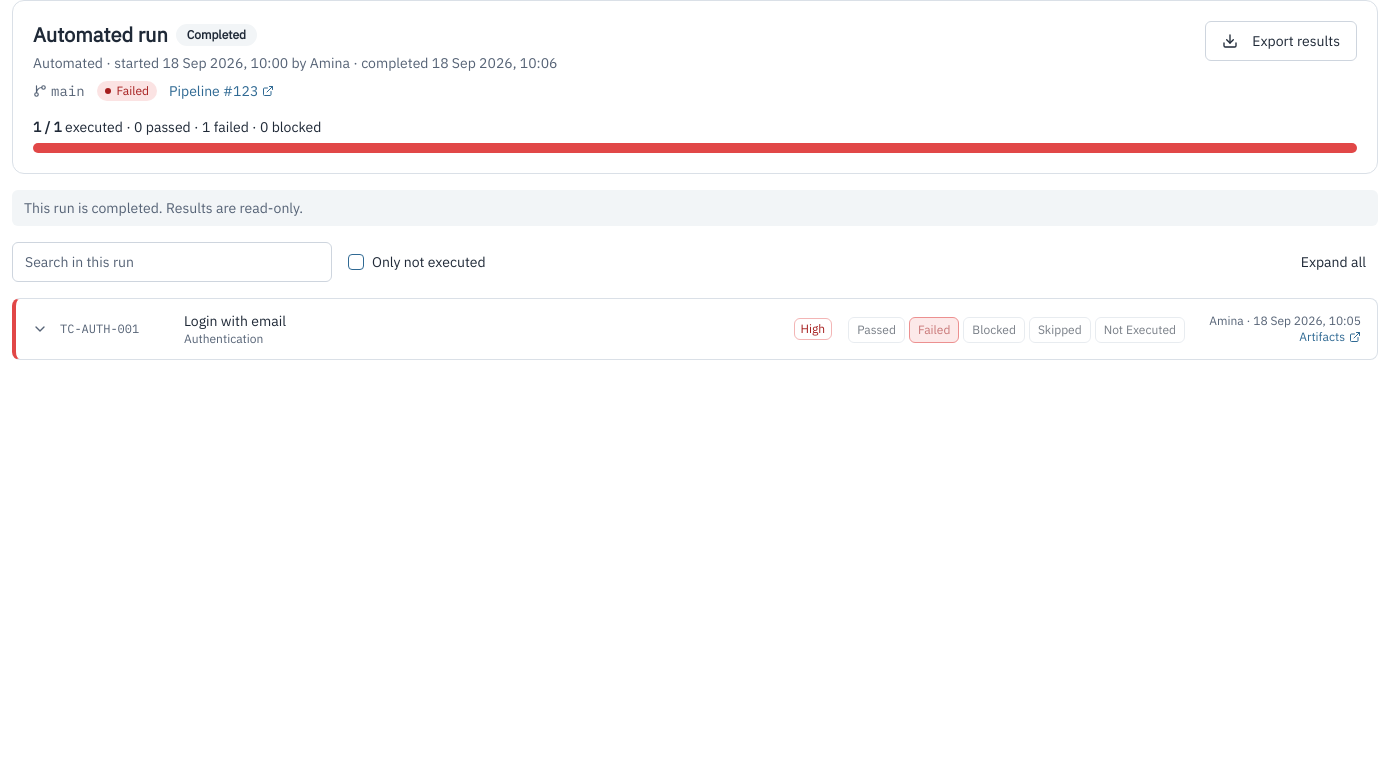
Test: Automated run screen › links a failed result to its job artifacts and the Playwright report
Click the button "TC-AUTH-001 Login with email Authentication". click: (100, 328)
box: [32,311,778,347]
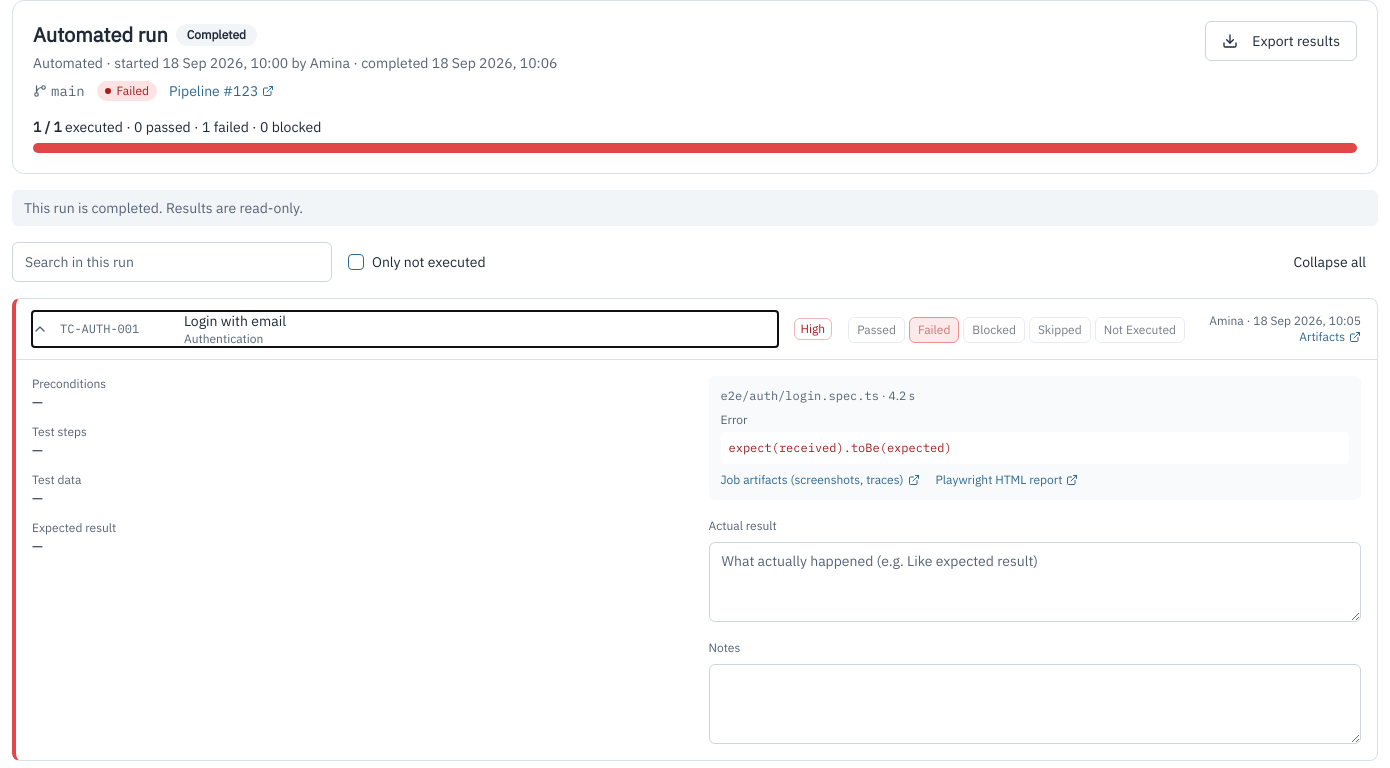
Now the text "expect(received).toBe(expected)" is shown, box [720,432,1349,464]
Now the text "e2e/auth/login.spec.ts · 4.2 s" is shown, box [720,388,915,403]
